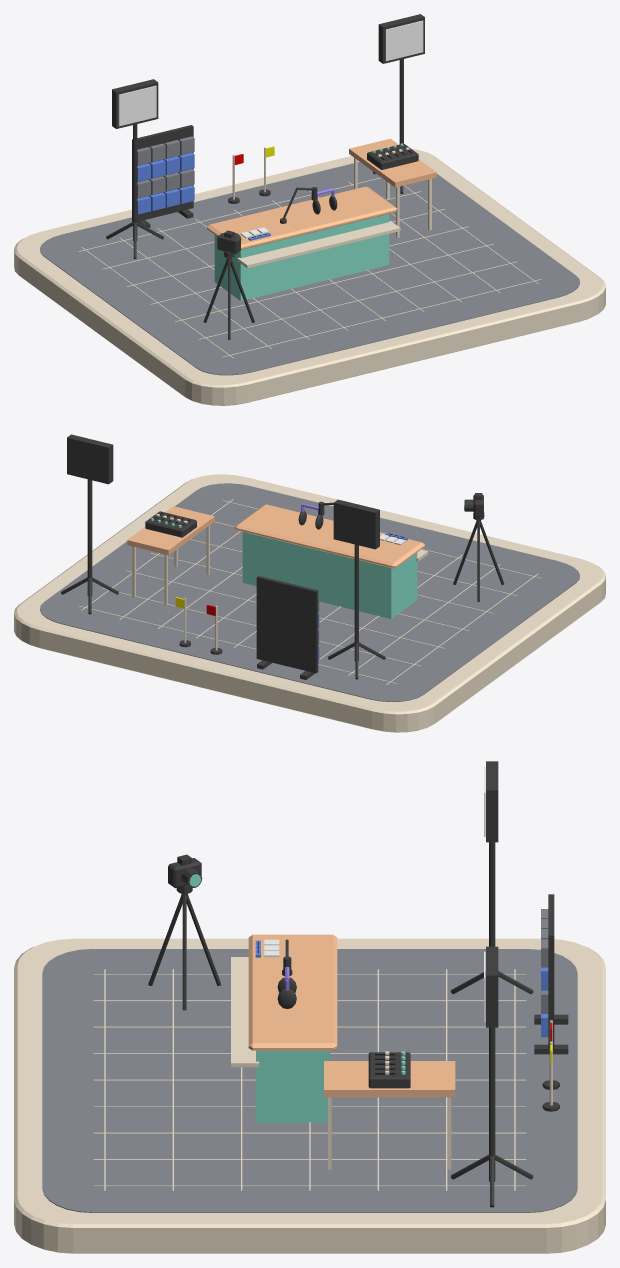
The model's file is room.fbx.
The picture shows the model from 3 angles, top to bottom: view 1: azimuth 30°, elevation 25°; view 2: azimuth 150°, elevation 25°; view 3: azimuth 270°, elevation 25°; orthographic projection. The views are drawn at different scales.
Parts seen in each view (by area): view 1: COM-02 Floor Surface, COM-01 Rounded Base Direct, Counter body, Countertop, Top, Visitor shelf, Panel, Diffuser, Diffuser.001, Audio console, Light panel, Light panel.001 (+1 smaller); view 2: COM-02 Floor Surface, COM-01 Rounded Base Direct, Counter body, Panel, Countertop, Top, Light panel, Light panel.001, Audio console, Pole.001, Pole; view 3: COM-02 Floor Surface, COM-01 Rounded Base Direct, Countertop, Counter body, Top, Visitor shelf, Audio console, Light panel, Light panel.001, Panel, Pole.001, Grout X.008 (+2 smaller).
Boxes of the visible parts, left/top/right/bottom form: COM-02 Floor Surface: left=40, top=162, right=579, bottom=375; COM-01 Rounded Base Direct: left=14, top=148, right=605, bottom=405; Counter body: left=214, top=214, right=389, bottom=300; Countertop: left=207, top=186, right=397, bottom=249; Top: left=349, top=138, right=436, bottom=238; Visitor shelf: left=237, top=220, right=400, bottom=268; Panel: left=132, top=125, right=193, bottom=221; Diffuser: left=118, top=85, right=156, bottom=126; Diffuser.001: left=385, top=20, right=423, bottom=61; Audio console: left=367, top=143, right=418, bottom=169; Light panel: left=112, top=79, right=158, bottom=128; Light panel.001: left=378, top=14, right=424, bottom=63; COM-02 Floor Surface: left=40, top=483, right=579, bottom=701; COM-01 Rounded Base Direct: left=14, top=474, right=605, bottom=732; Counter body: left=242, top=532, right=417, bottom=618; Panel: left=256, top=576, right=318, bottom=673; Countertop: left=234, top=504, right=424, bottom=568; Top: left=127, top=506, right=214, bottom=605; Light panel: left=333, top=499, right=379, bottom=549; Light panel.001: left=67, top=434, right=113, bottom=484; Audio console: left=145, top=511, right=196, bottom=537; Pole.001: left=87, top=479, right=92, bottom=595; Pole: left=354, top=544, right=358, bottom=661; COM-02 Floor Surface: left=42, top=949, right=577, bottom=1212; COM-01 Rounded Base Direct: left=14, top=938, right=605, bottom=1253; Countertop: left=248, top=934, right=337, bottom=1050; Counter body: left=256, top=1050, right=329, bottom=1122; Top: left=324, top=1061, right=455, bottom=1169; Visitor shelf: left=231, top=957, right=259, bottom=1067; Audio console: left=368, top=1052, right=410, bottom=1088; Light panel: left=486, top=761, right=498, bottom=842; Light panel.001: left=486, top=946, right=498, bottom=1027; Panel: left=548, top=894, right=554, bottom=1051; Pole.001: left=489, top=1027, right=495, bottom=1181; Grout X.008: left=94, top=1185, right=525, bottom=1186.
Size of the model in its own units: 600 by 250 by 520.
